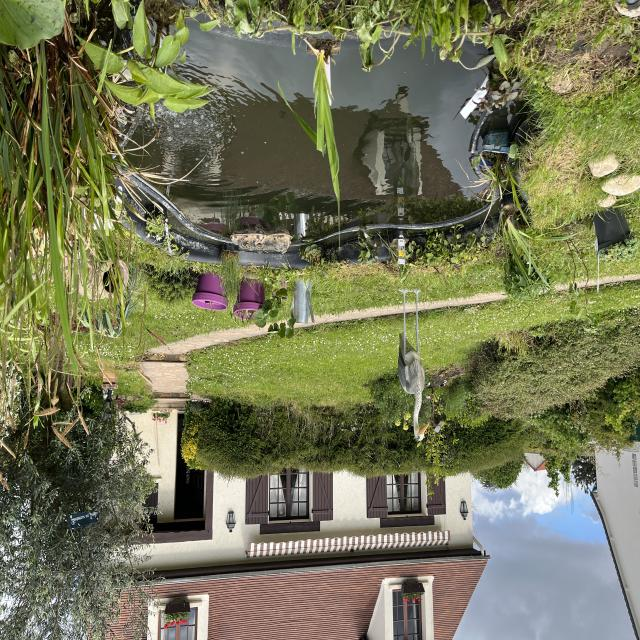Heron: (391, 281, 437, 454)
